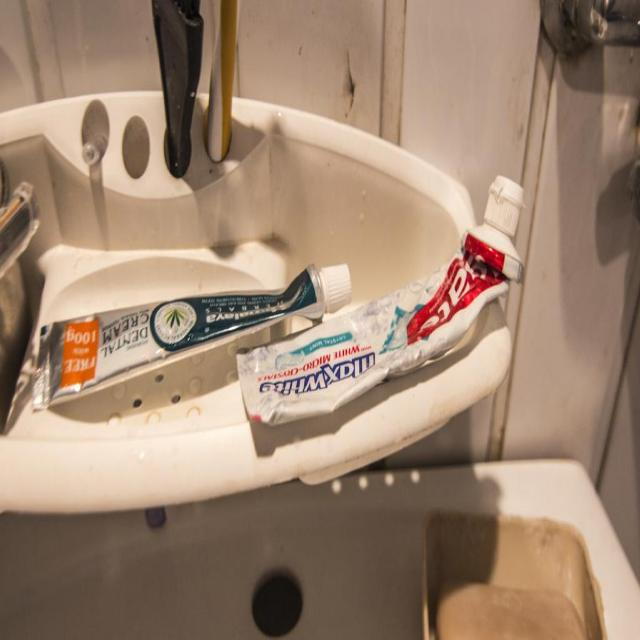Toothpaste: (229, 166, 544, 422), (27, 255, 347, 417)
